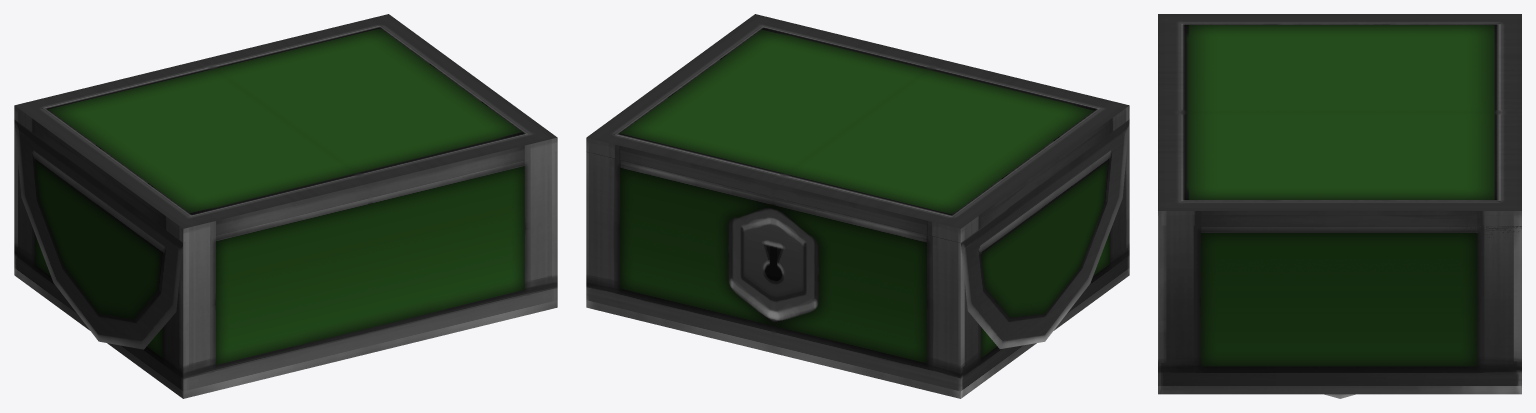
File: chest.fbx
3 views of the same model, side by side, from view 1: azimuth 30°, elevation 25°; view 2: azimuth 150°, elevation 25°; view 3: azimuth 270°, elevation 25° (orthographic). The views are drawn at different scales.
Visible parts, largest first — view 1: chest, chestcover; view 2: chest, chestcover; view 3: chest.
Part boxes in pixels (x1,y1,x2,y2): chest: (14, 14, 557, 398); chestcover: (14, 119, 182, 349); chest: (586, 14, 1129, 398); chestcover: (586, 119, 1129, 349); chest: (1158, 14, 1521, 394).
Size of the model in its own units: 1.4 by 0.6245 by 1.09.
